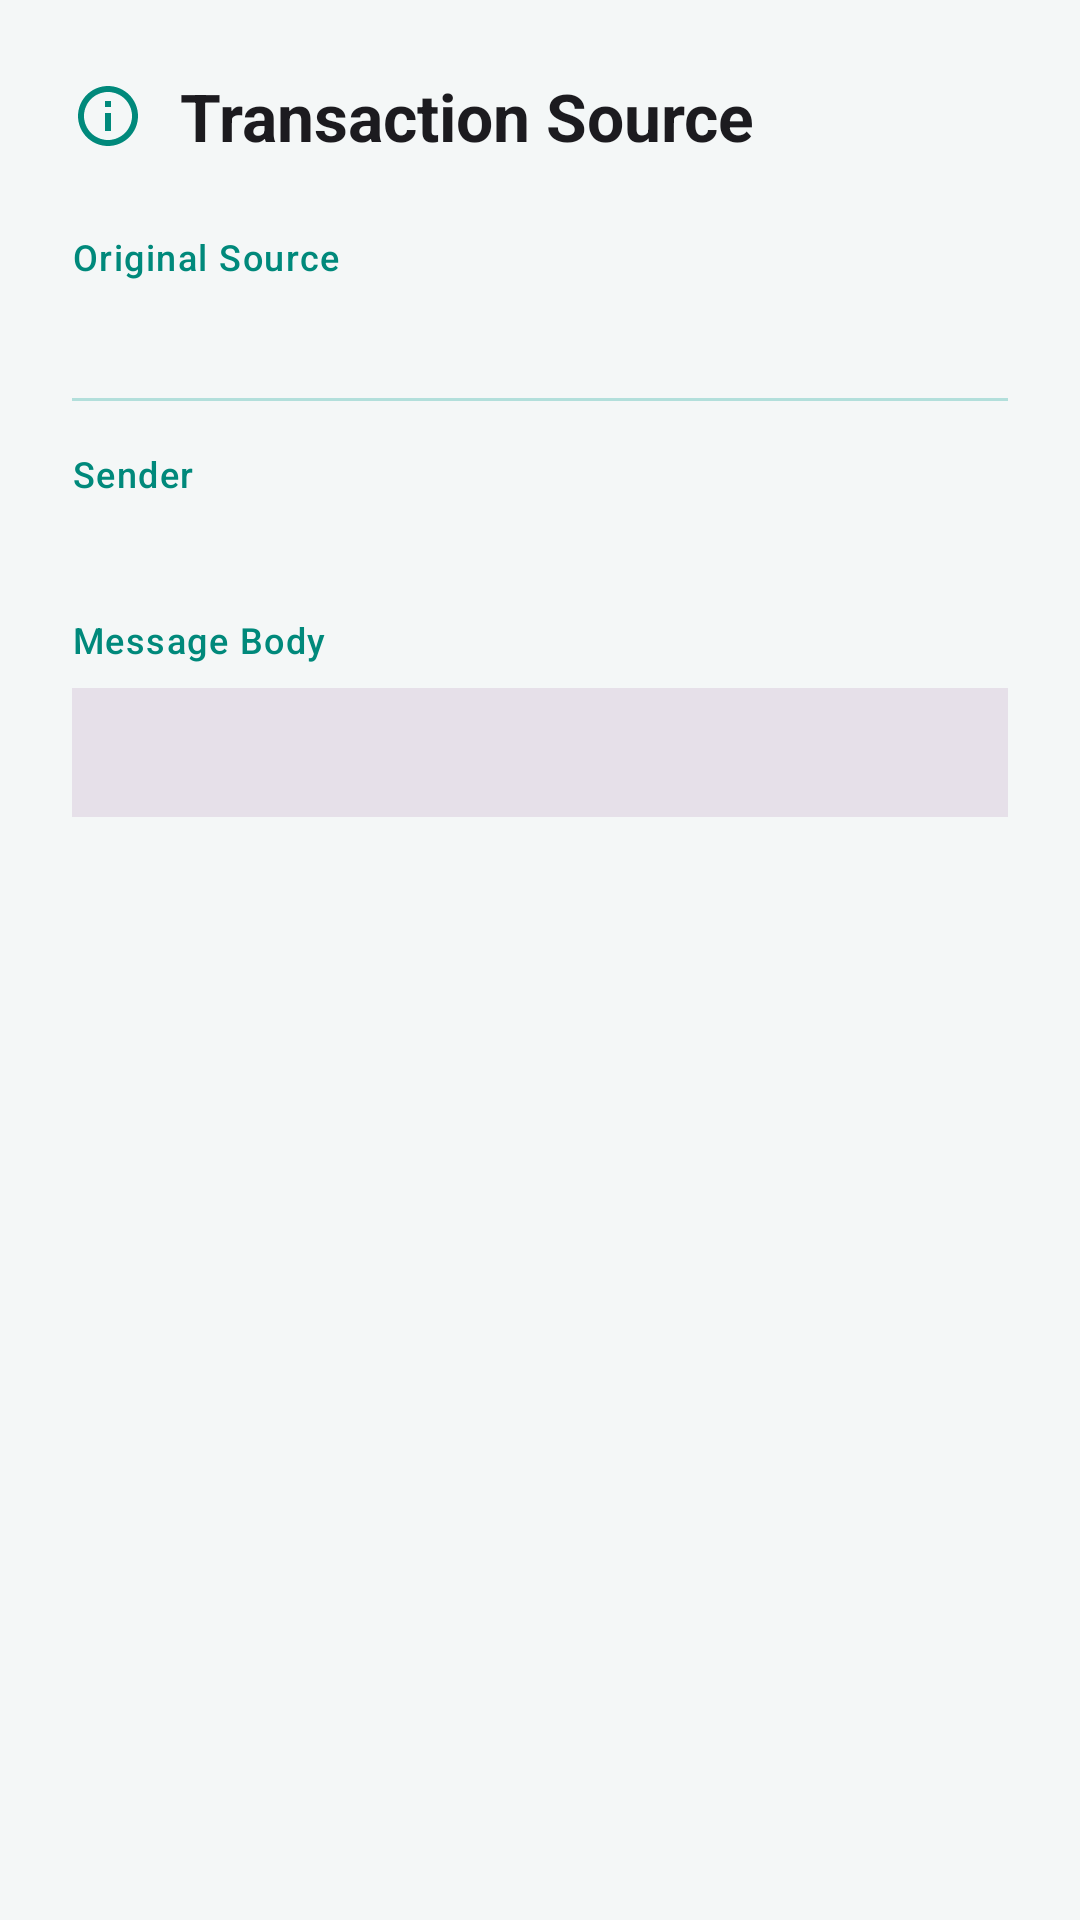

Screen size 1080px×1920px. Icon name, then its box in pixels as (x1, y1, x2, y2):
info: (78, 86, 138, 146)
